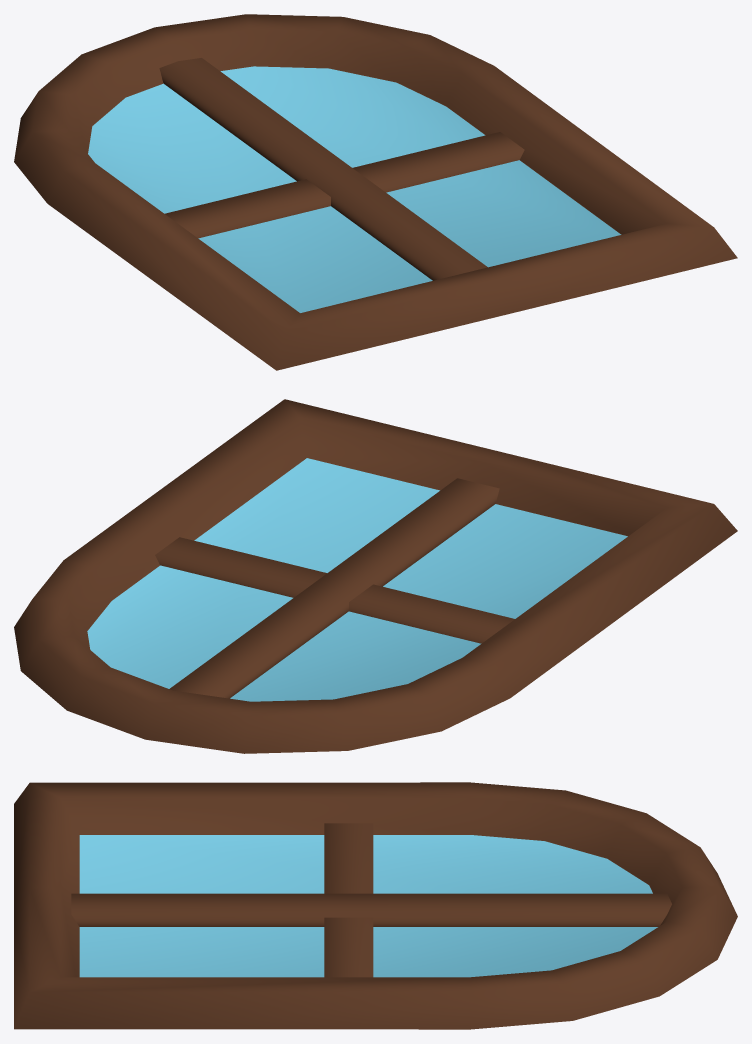
File: window.fbx
3 renders of one model, top to bottom at view 1: azimuth 30°, elevation 25°; view 2: azimuth 150°, elevation 25°; view 3: azimuth 270°, elevation 25°, orthographic.
Visible parts, largest first — view 1: window, Cube, Cube.001; view 2: window, Cube, Cube.001; view 3: window, Cube, Cube.001.
Part boxes in pixels (left/top/right/bottom): window: left=14, top=14, right=737, bottom=370; Cube: left=159, top=58, right=487, bottom=280; Cube.001: left=165, top=132, right=524, bottom=238; window: left=14, top=399, right=737, bottom=753; Cube: left=169, top=478, right=499, bottom=698; Cube.001: left=155, top=537, right=514, bottom=643; window: left=14, top=782, right=737, bottom=1029; Cube: left=71, top=893, right=671, bottom=926; Cube.001: left=324, top=823, right=373, bottom=977.
Bounding box in the file's own units: 232 × 21.45 × 314.
